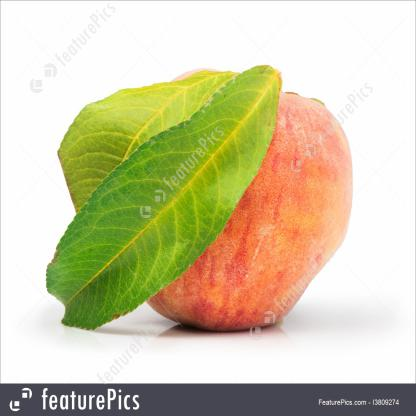peach leaf: (51, 68, 282, 316), (60, 70, 226, 201)
